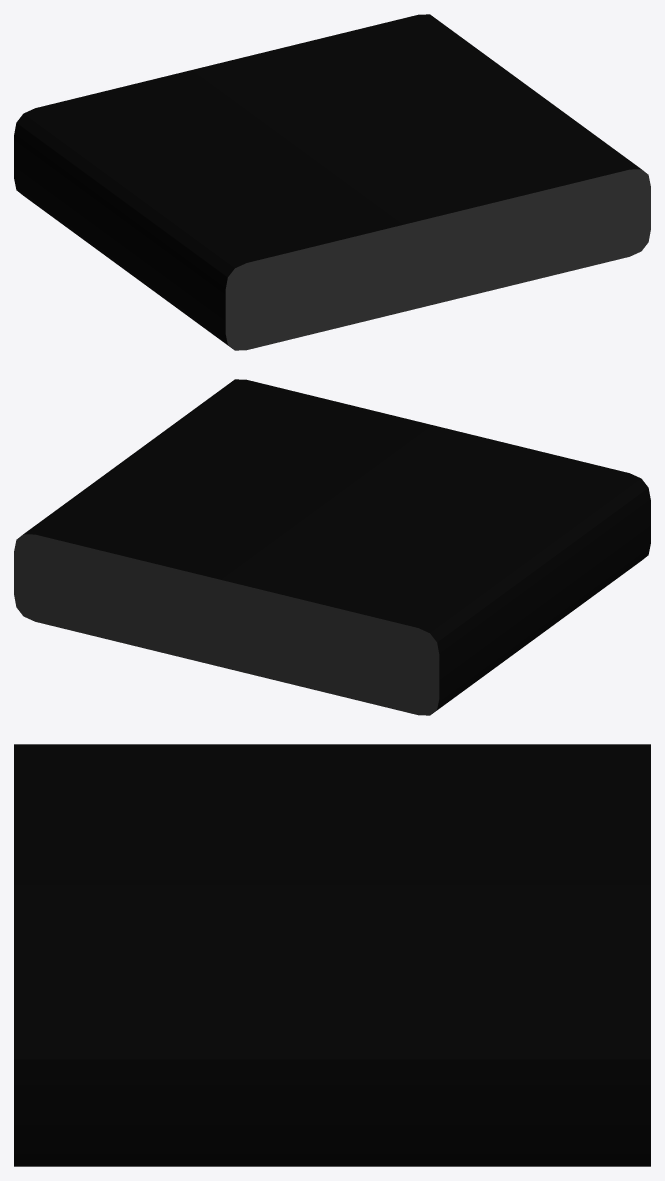
Rendered from 67183834-f015-4dec-96fe-f6b154c32bb2.glb.
3 views of the same model, one above another, from view 1: azimuth 30°, elevation 25°; view 2: azimuth 150°, elevation 25°; view 3: azimuth 270°, elevation 25° (orthographic). The views are drawn at different scales.
Visible parts, largest first — view 1: -_Soul_Black; view 2: -_Soul_Black; view 3: -_Soul_Black.
Part boxes in pixels (x1,y1,x2,y2): -_Soul_Black: [14, 14, 650, 350]; -_Soul_Black: [14, 379, 650, 715]; -_Soul_Black: [14, 744, 650, 1166].
Size of what is drawn, in the model's own units: 0.0523 by 0.0102 by 0.045.
Materials: 2 (2 with a texture image).
